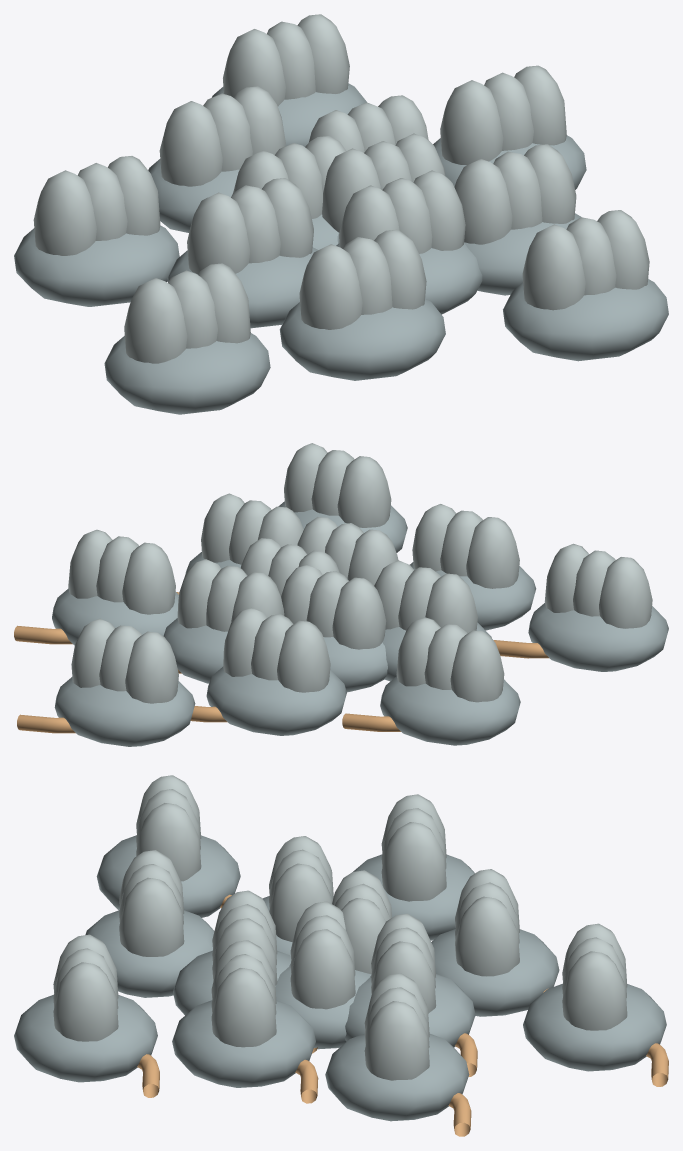
File: bio_acid_mat_16_far.glb
The picture shows the model from 3 angles, top to bottom: view 1: azimuth 30°, elevation 25°; view 2: azimuth 150°, elevation 25°; view 3: azimuth 270°, elevation 25°; orthographic projection. The views are drawn at different scales.
Visible parts, largest first — view 1: Reaction vesicle.021, Reaction vesicle.030, Reaction vesicle.027, Reaction vesicle.036, Reaction vesicle.024, Microbial cushion.012, Microbial cushion.010, Microbial cushion.007, Reaction vesicle.012, Reaction vesicle.018, Reaction vesicle.015, Microbial cushion.009 (+12 smaller); view 2: Reaction vesicle.018, Reaction vesicle.024, Reaction vesicle.027, Reaction vesicle.033, Reaction vesicle.036, Reaction vesicle.030, Reaction vesicle.021, Microbial cushion.011, Microbial cushion.009, Microbial cushion.012, Microbial cushion.006, Reaction vesicle.003 (+16 smaller); view 3: Microbial cushion.011, Microbial cushion.010, Microbial cushion.008, Microbial cushion.005, Reaction vesicle.024, Reaction vesicle.027, Reaction vesicle.033, Reaction vesicle.021, Reaction vesicle.030, Reaction vesicle.018, Reaction vesicle.015, Reaction vesicle (+17 smaller).
Part boxes in pixels (x1,y1,x2,y2): Reaction vesicle.021: (299,229,426,329); Reaction vesicle.030: (522,210,649,310); Reaction vesicle.027: (33,156,160,255); Reaction vesicle.036: (124,263,250,363); Reaction vesicle.024: (440,65,566,165); Microbial cushion.012: (104,333,270,414); Microbial cushion.010: (503,279,668,361); Microbial cushion.007: (279,298,445,380); Reaction vesicle.012: (187,178,313,274); Reaction vesicle.018: (159,86,285,186); Reaction vesicle.015: (454,144,576,244); Microbial cushion.009: (14,225,179,306); Reaction vesicle.018: (223,607,330,692); Reaction vesicle.024: (68,529,175,614); Reaction vesicle.027: (396,617,504,702); Reaction vesicle.033: (71,618,178,703); Reaction vesicle.036: (544,543,652,628); Reaction vesicle.030: (284,443,391,527); Reaction vesicle.021: (412,504,519,588); Microbial cushion.011: (54,677,195,746); Microbial cushion.009: (380,676,520,745); Microbial cushion.012: (528,603,668,671); Microbial cushion.006: (206,666,346,735); Reaction vesicle.003: (281,564,386,649); Microbial cushion.011: (523,983,666,1071); Microbial cushion.010: (14,994,157,1082); Microbial cushion.008: (325,1033,469,1121); Microbial cushion.005: (172,1000,315,1087); Reaction vesicle.024: (364,973,429,1080); Reaction vesicle.027: (381,794,446,901); Reaction vesicle.033: (562,923,627,1030); Reaction vesicle.021: (119,850,184,956); Reaction vesicle.030: (53,934,118,1041); Reaction vesicle.018: (455,869,519,976); Reaction vesicle.015: (211,940,276,1047); Reaction vesicle: (290,901,355,1009).
Bounding box in the file's own units: 1.97 × 0.3999 × 2.
